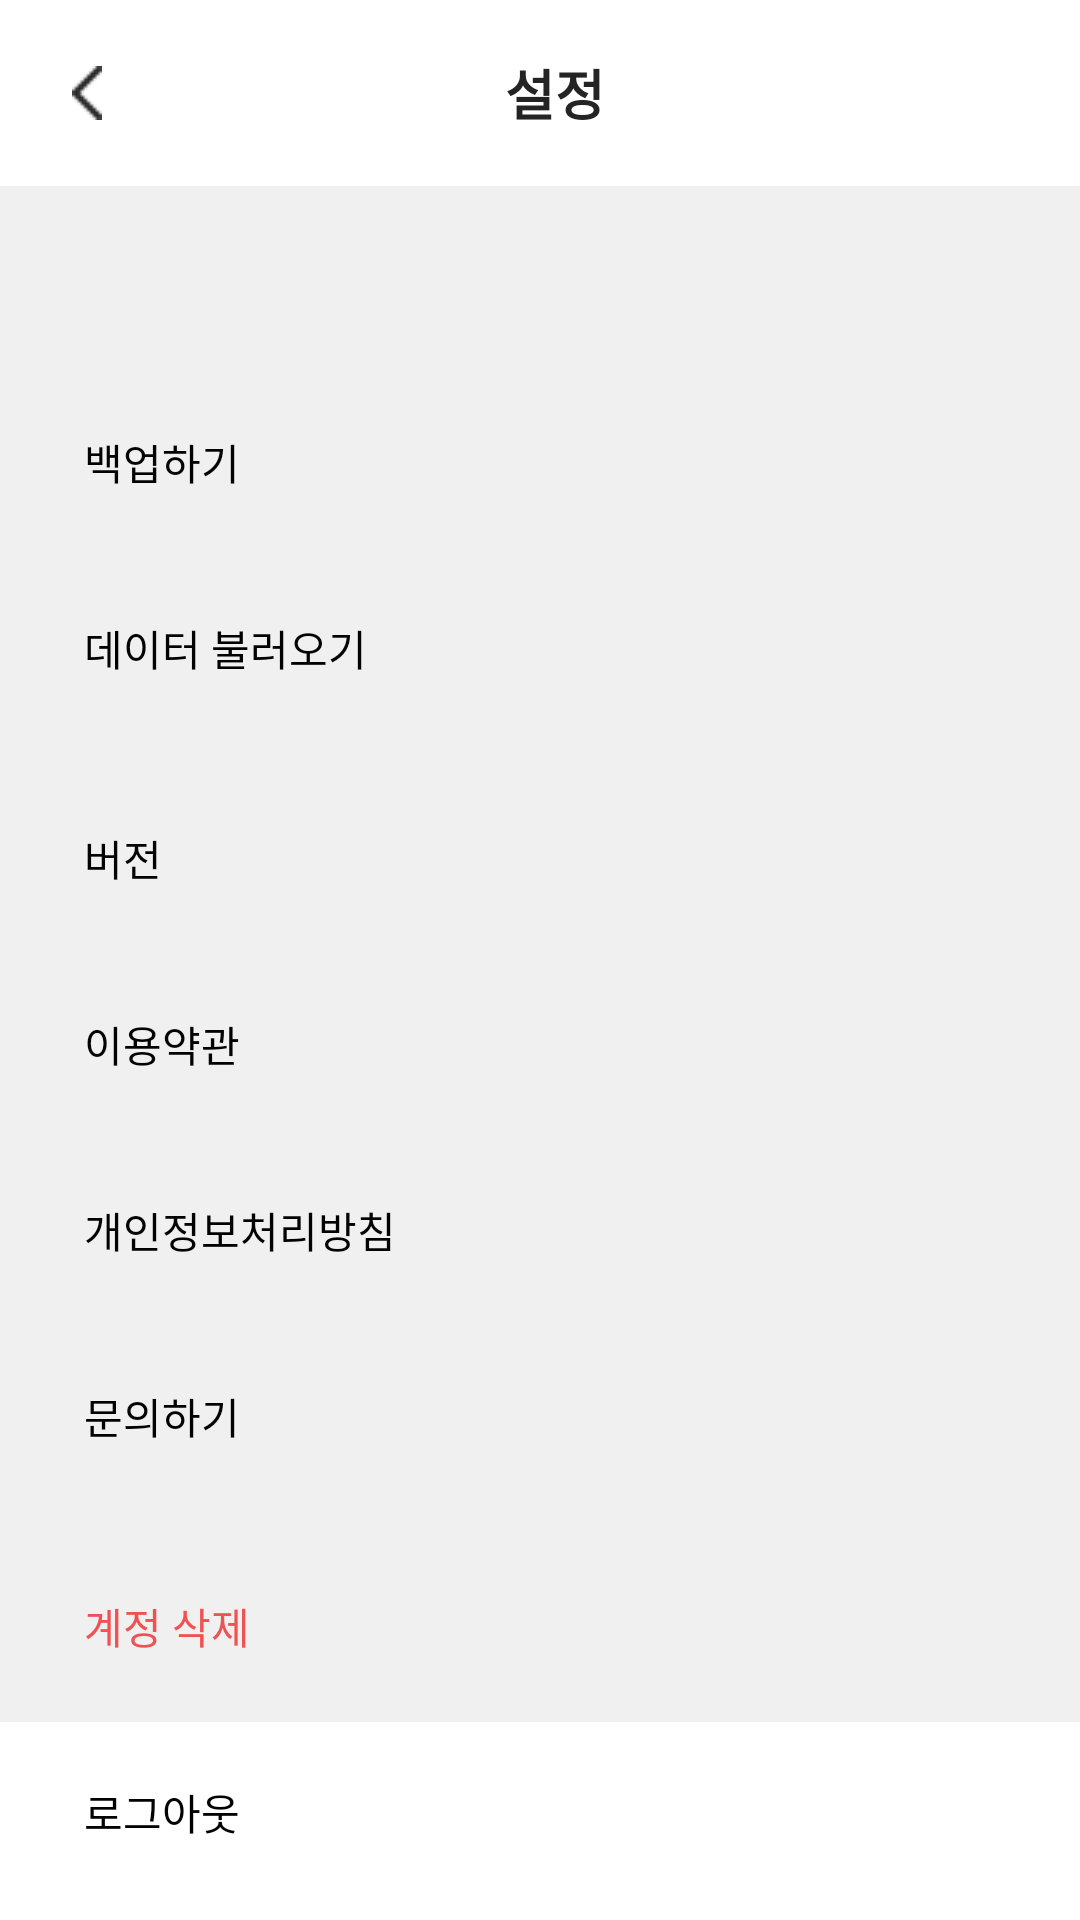

Where to tap for icons on this 1080 x 1920 app screen, as point (x, y):
arrow back: point (87, 93)
